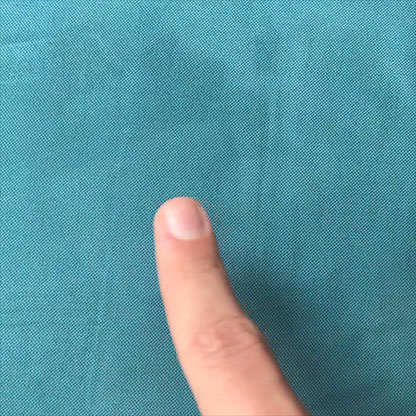fingertip: (144, 178, 224, 259)
